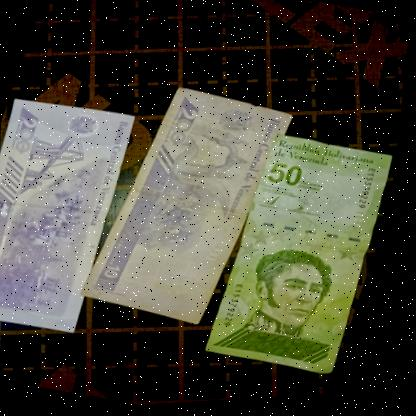fifty-front-vef: (206, 132, 403, 387)
ten-back-vef: (80, 78, 302, 339)
two_hundred-back-vef: (0, 88, 152, 340)
